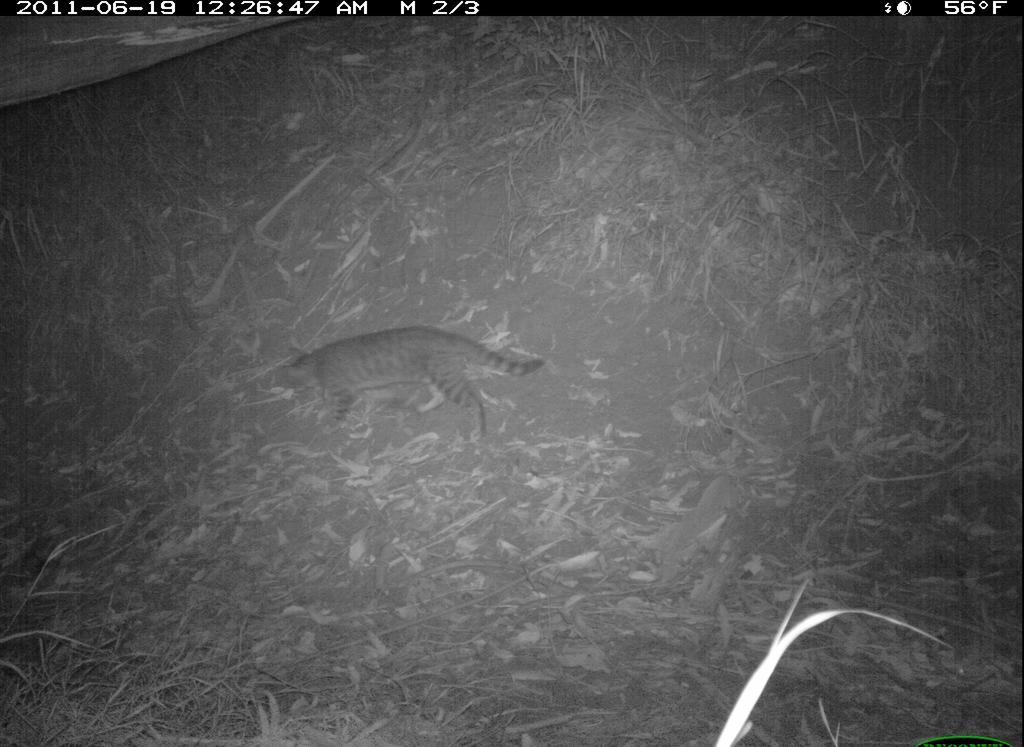cat: (272, 317, 553, 456)
